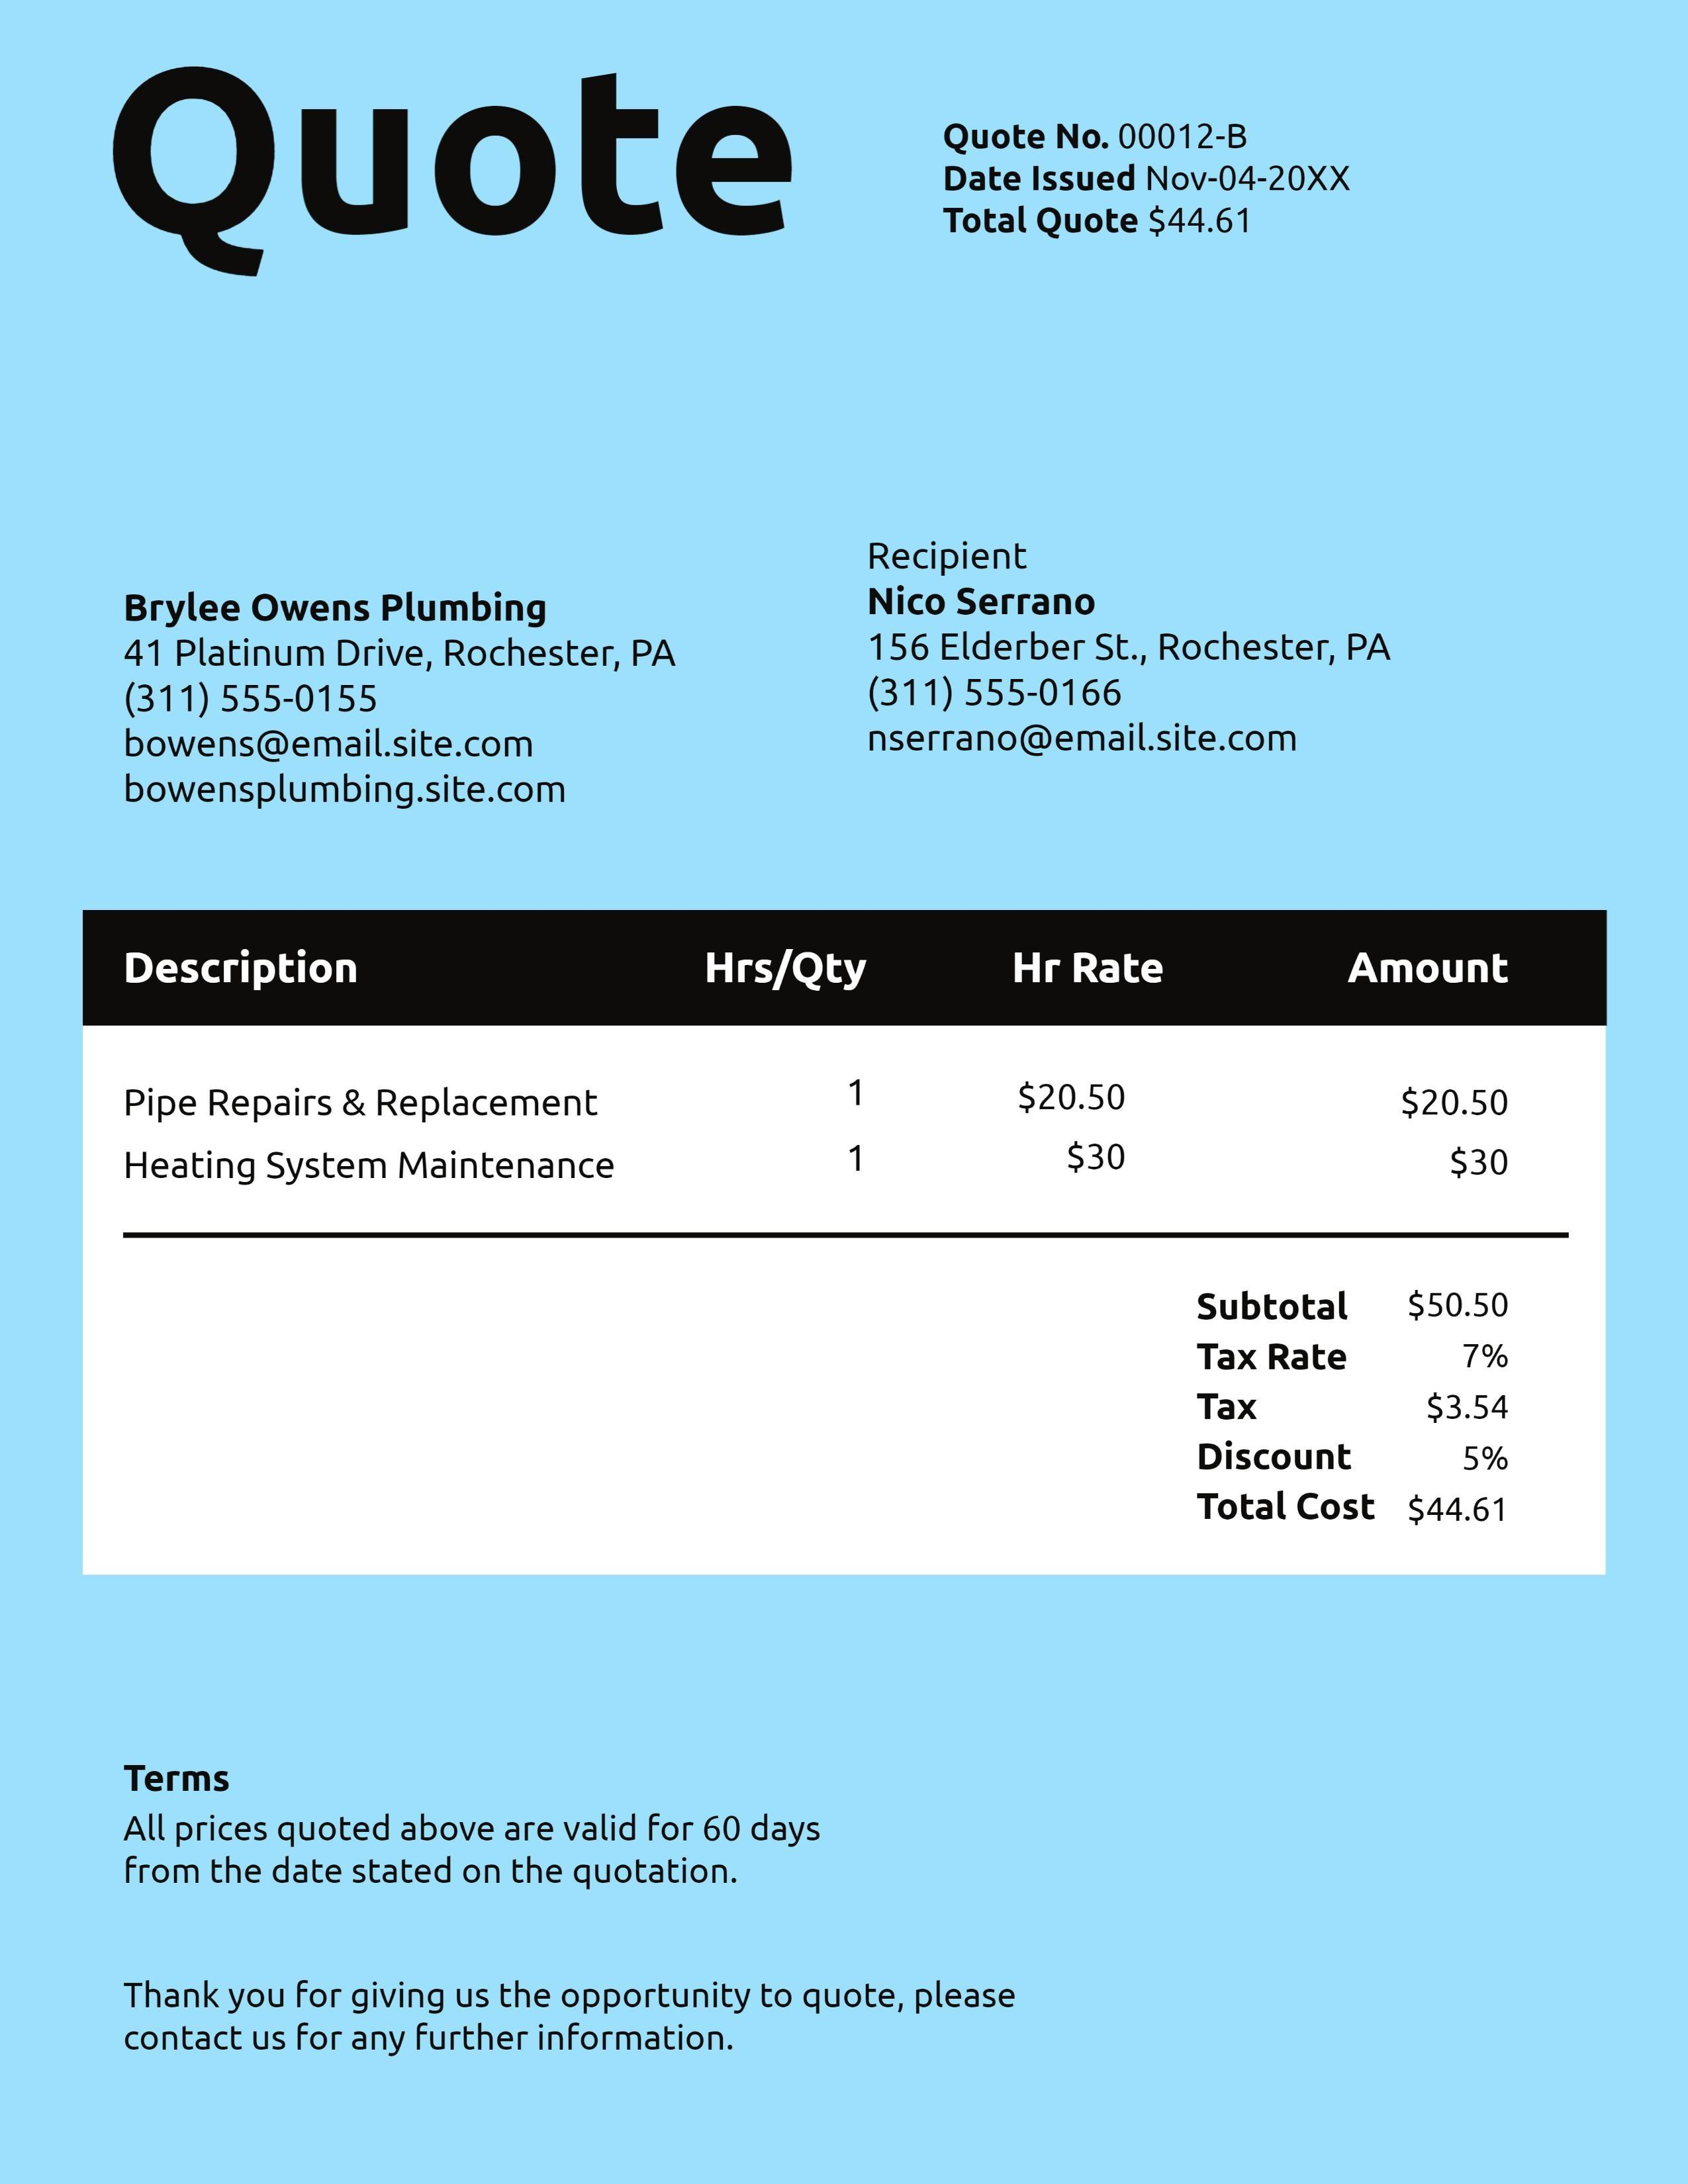ROI: (110, 932, 1528, 1205), (851, 532, 1403, 798), (108, 581, 688, 823), (112, 1757, 833, 1911), (1183, 1269, 1528, 1540), (934, 115, 1367, 245)
